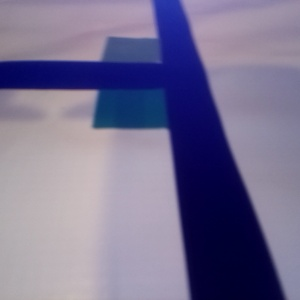bottom_left: (44, 1, 110, 31)
bottom_right: (93, 1, 159, 29)
top_left: (1, 105, 87, 200)
